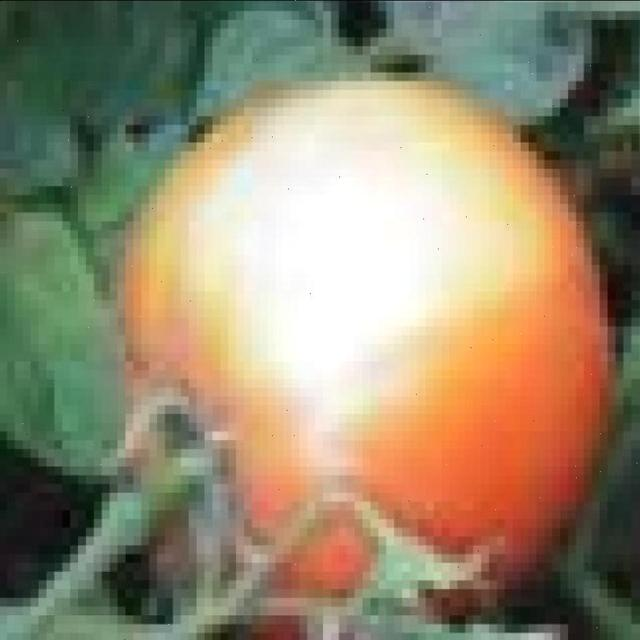Sunscald Fruit: (105, 62, 358, 319)
